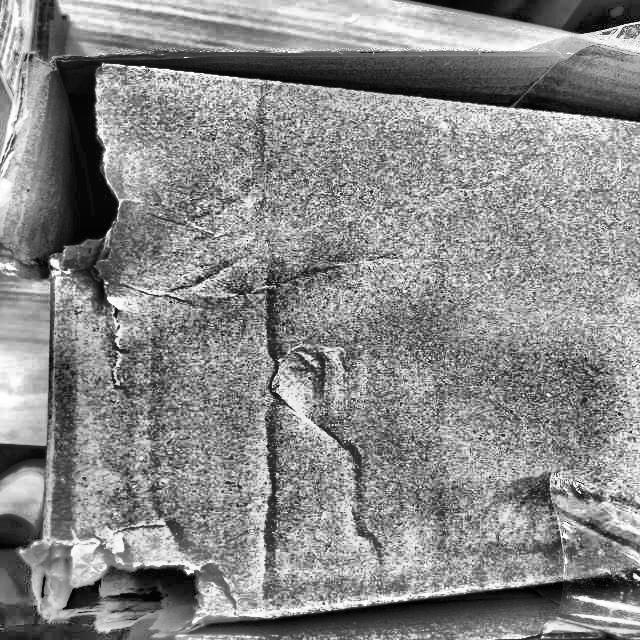box: (4, 29, 640, 630)
hole: (45, 52, 145, 292), (37, 534, 213, 640)
